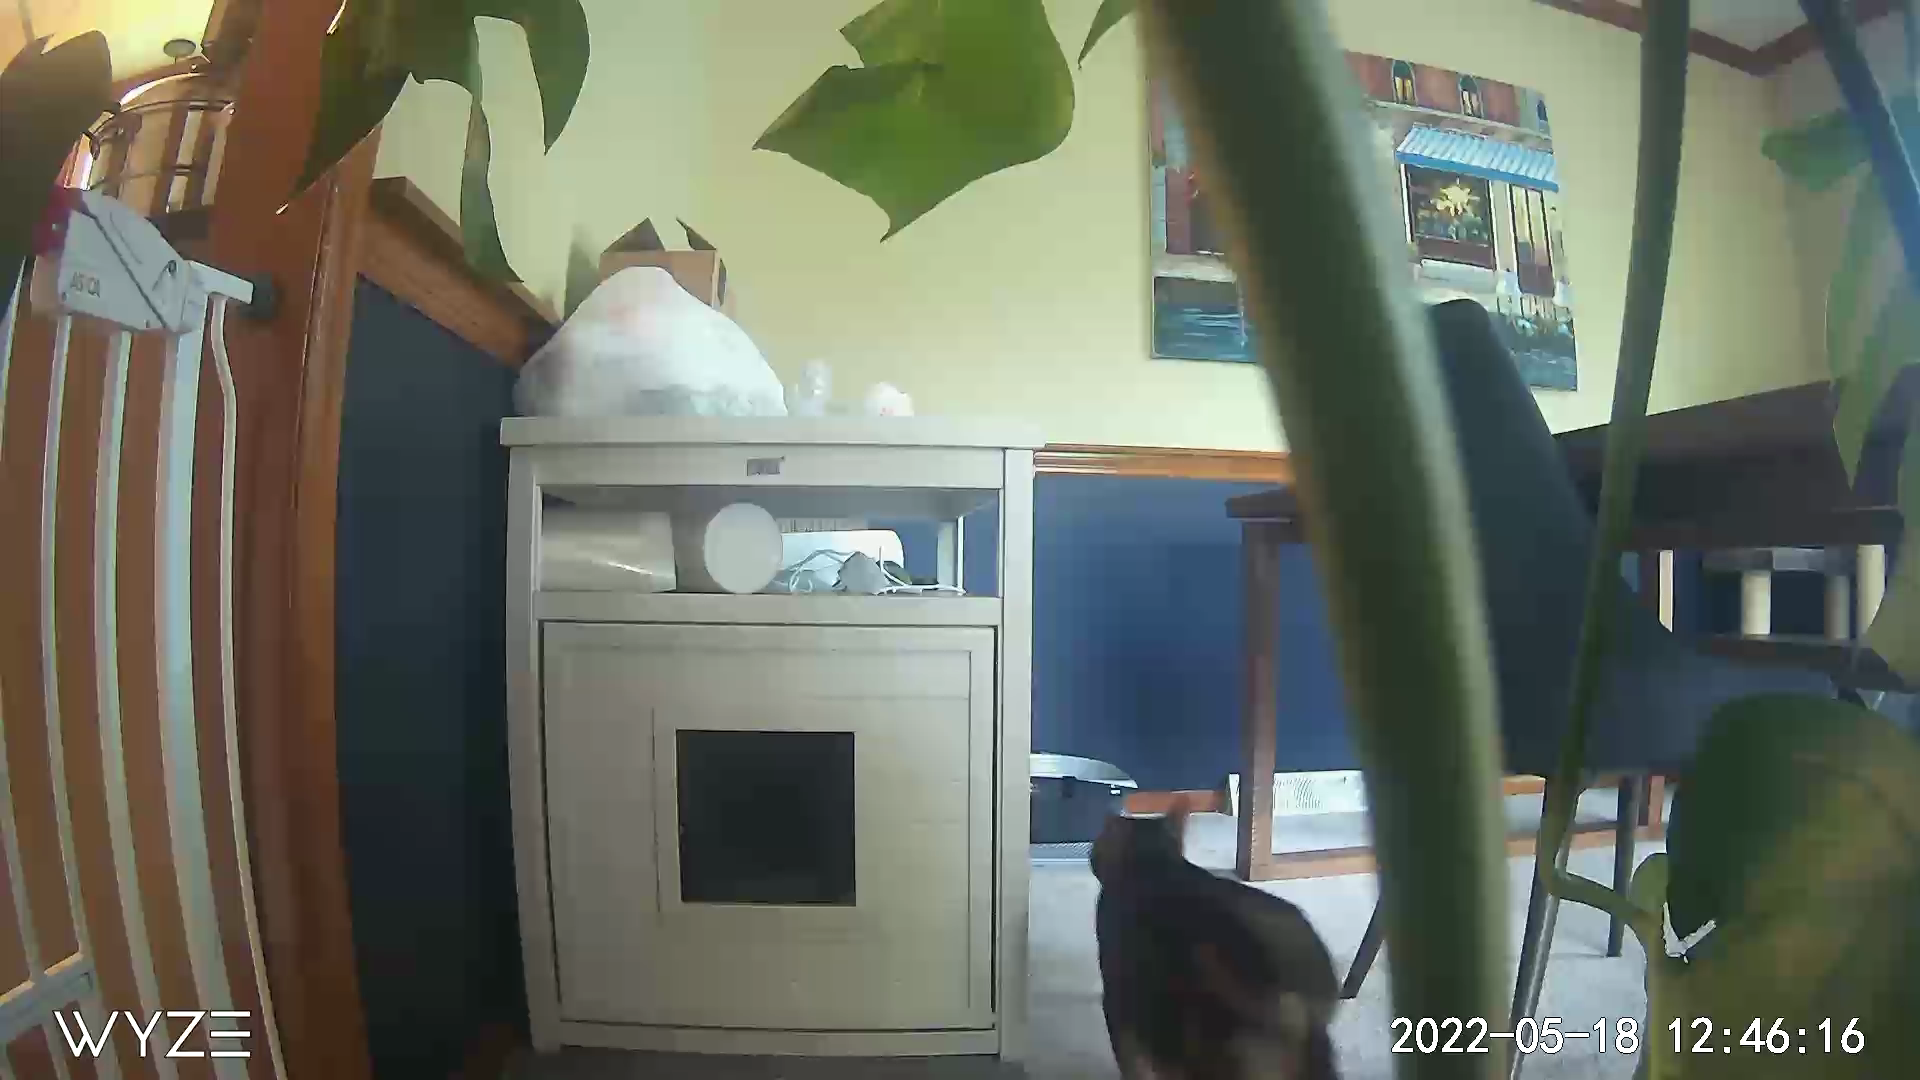sparky: (1088, 810, 1337, 1080)
